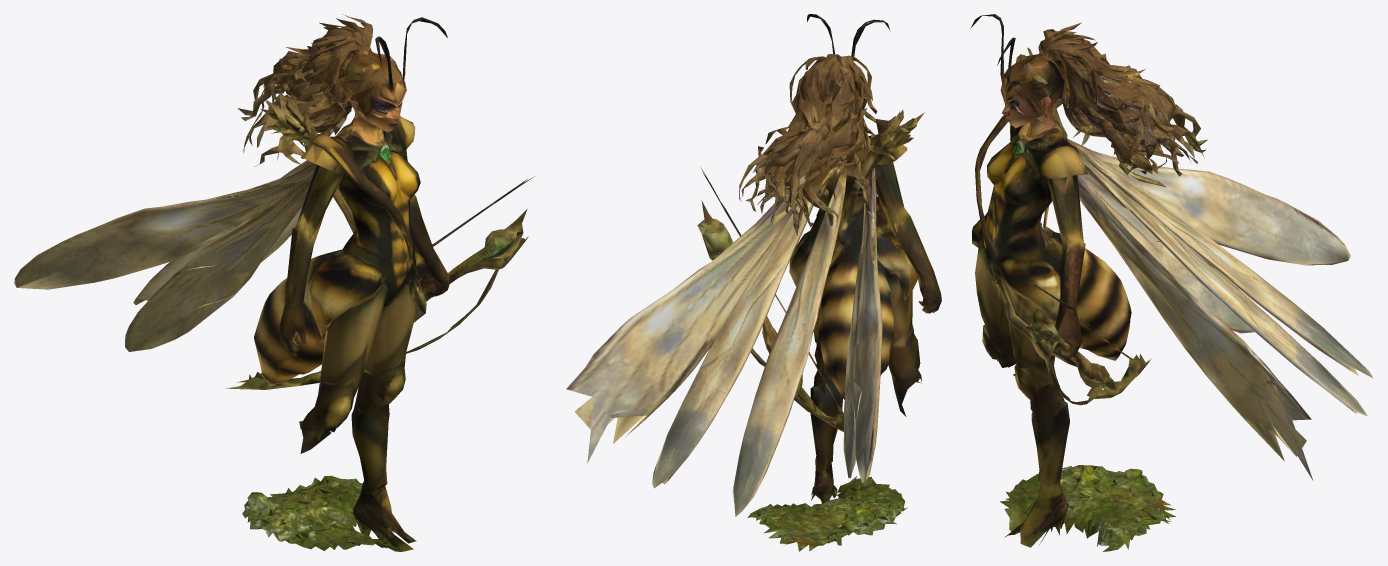
File: зои-v1-фигура.glb
The picture shows the model from 3 angles, left to right: view 1: azimuth 30°, elevation 25°; view 2: azimuth 150°, elevation 25°; view 3: azimuth 270°, elevation 25°; orthographic projection. The views are drawn at different scales.
Visible parts, largest first — view 1: Mesh_0; view 2: Mesh_0; view 3: Mesh_0.
Part boxes in pixels (x1,y1,x2,y2): Mesh_0: (14,14,534,551); Mesh_0: (566,14,941,551); Mesh_0: (970,14,1373,551).
Size of the model in its own units: 0.6742 by 0.9635 by 0.6856.
Materials: 1 (1 with a texture image).
